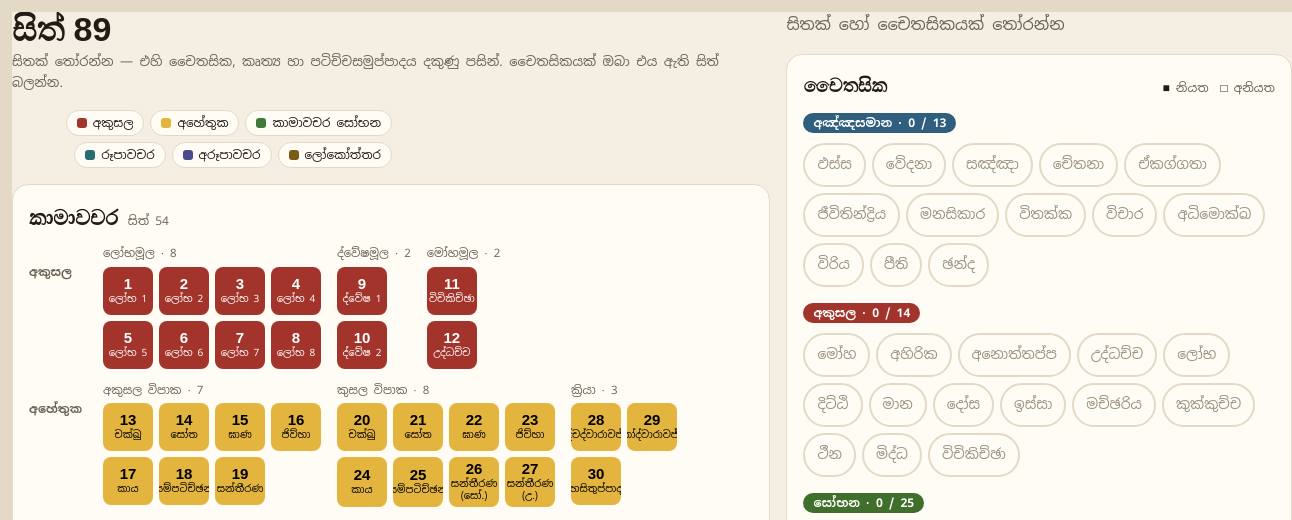
Test case: ExplorerView › renders an SVG count ring alongside the "n / 52" text for the selected citta
Click the button named "1. " at [128, 291], box [103, 267, 153, 315]
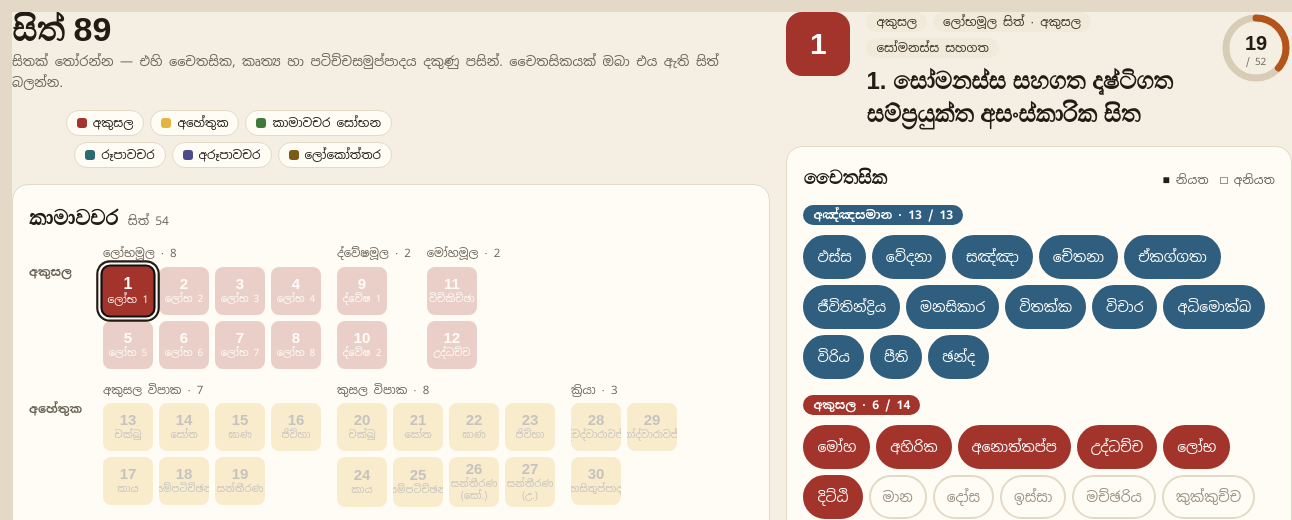
expect the icon is shown: met, box [1220, 12, 1291, 84]
